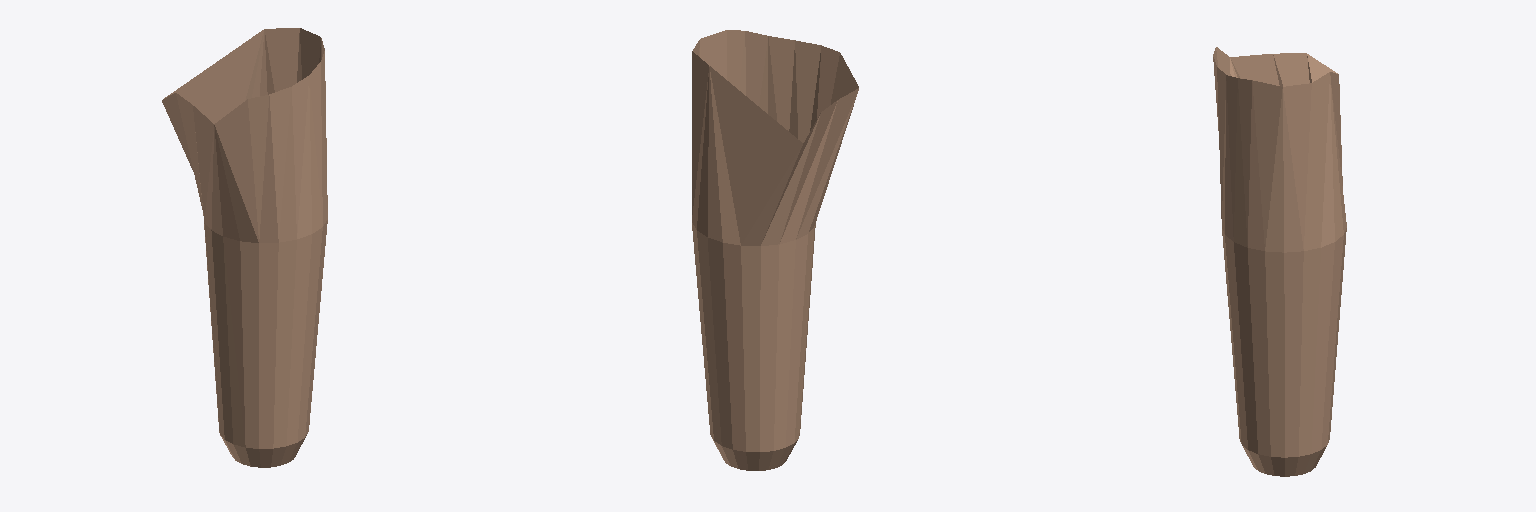
File: RightLeg.obj
3 views of the same model, side by side, from view 1: azimuth 30°, elevation 25°; view 2: azimuth 150°, elevation 25°; view 3: azimuth 270°, elevation 25° (orthographic).
Parts seen in each view (by area): view 1: Cube.004_Lilith_Model.004; view 2: Cube.004_Lilith_Model.004; view 3: Cube.004_Lilith_Model.004.
Part boxes in pixels (x1,y1,x2,y2): Cube.004_Lilith_Model.004: (162,28,327,467); Cube.004_Lilith_Model.004: (692,30,858,470); Cube.004_Lilith_Model.004: (1213,47,1346,476).
Bounding box in the file's own units: 13.27 × 38.5 × 11.53.